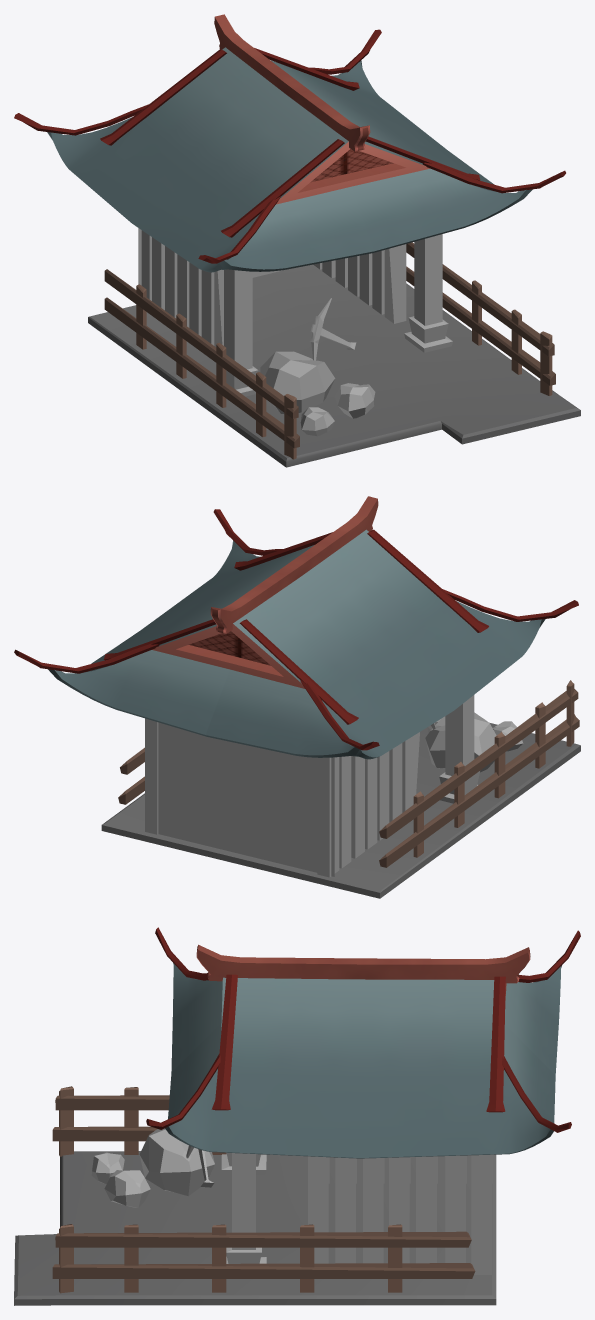
File: mine_2lvl.fbx
3 views of the same model, one above another, from view 1: azimuth 30°, elevation 25°; view 2: azimuth 150°, elevation 25°; view 3: azimuth 270°, elevation 25° (orthographic). The views are drawn at different scales.
Parts seen in each view (by area): view 1: mine_2lvl1; view 2: mine_2lvl1; view 3: mine_2lvl1.
Part boxes in pixels (<box>): mine_2lvl1: <box>14,14,580,467</box>; mine_2lvl1: <box>14,496,580,898</box>; mine_2lvl1: <box>14,927,580,1305</box>.
Bounding box in the file's own units: 5.36 × 3.62 × 6.47.
